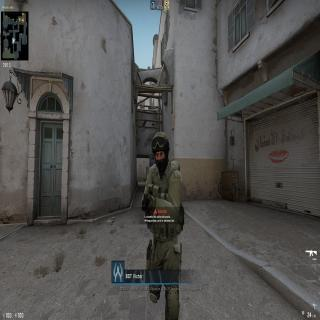CT-Head: (150, 130, 171, 170)
